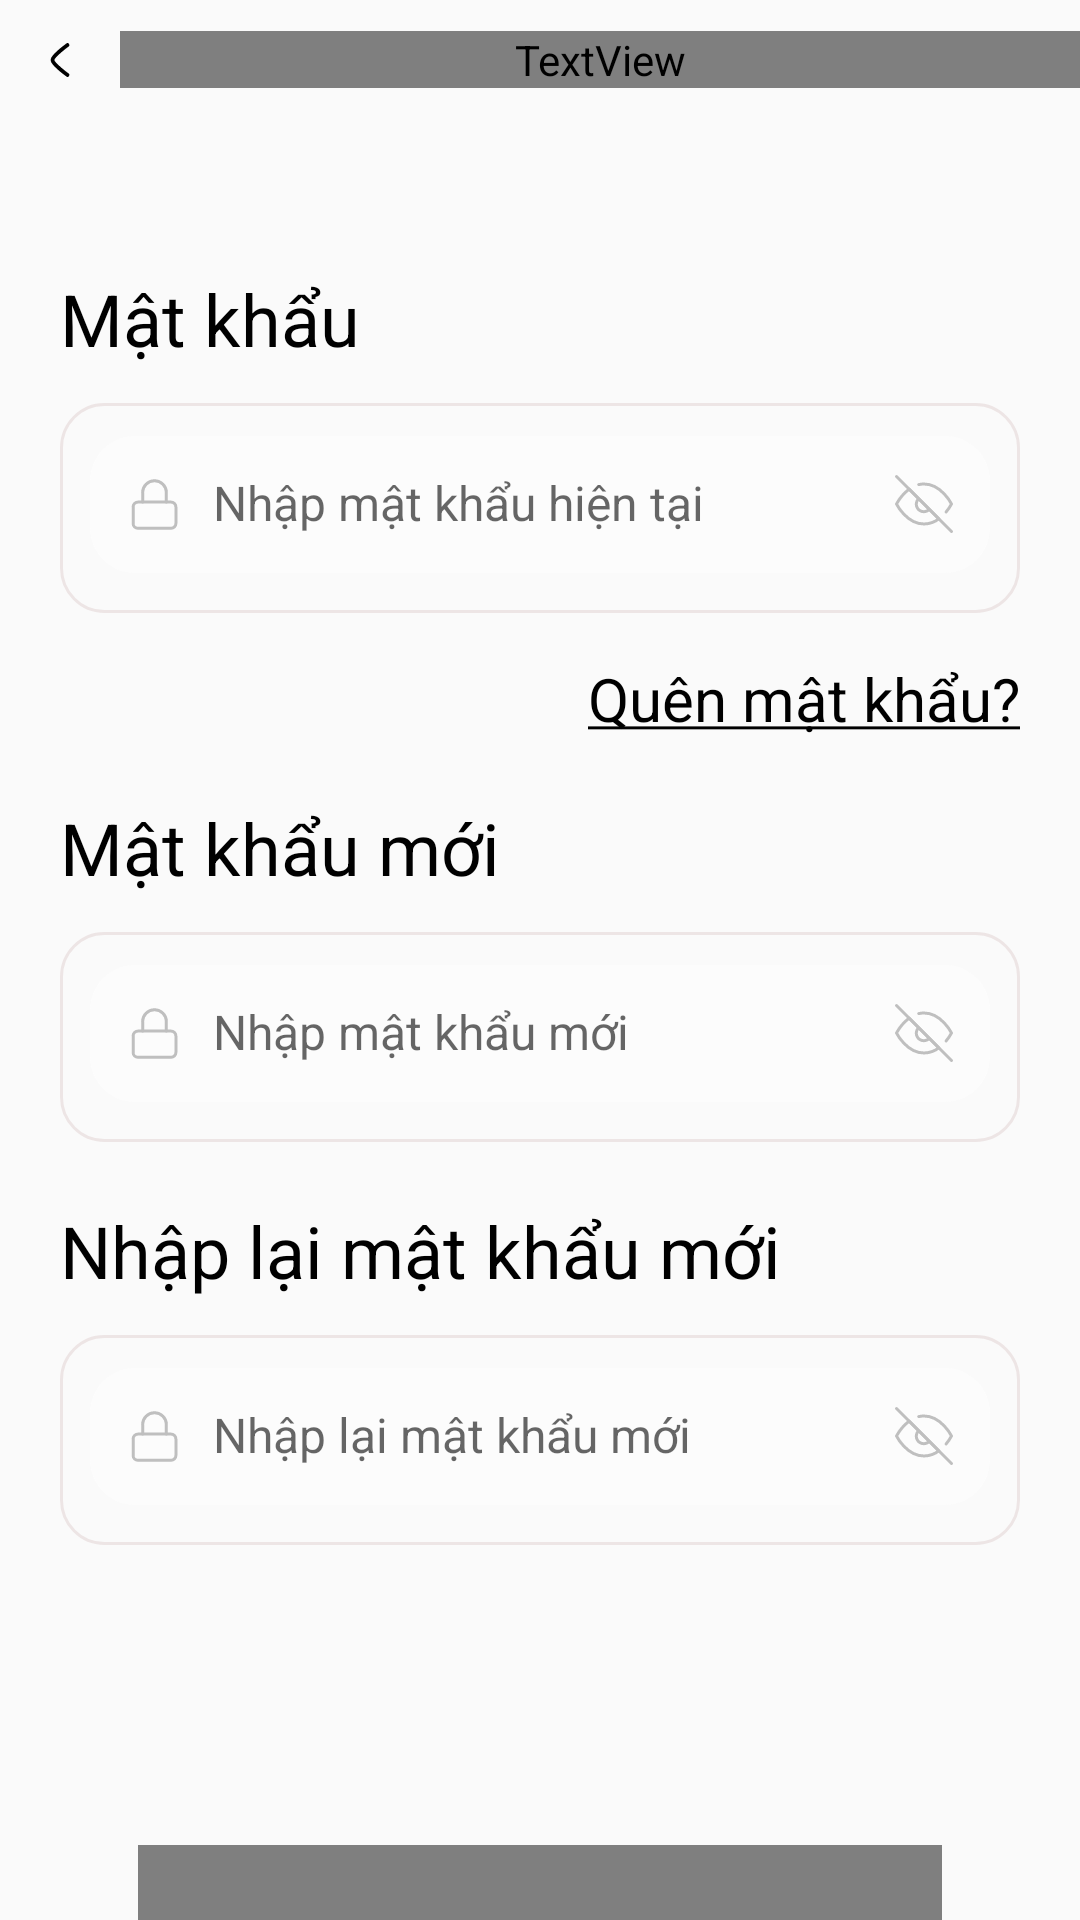

Icon click points for this 1080px x 1920px phone screenshot, format point (x, y):
back: point (60, 60)
